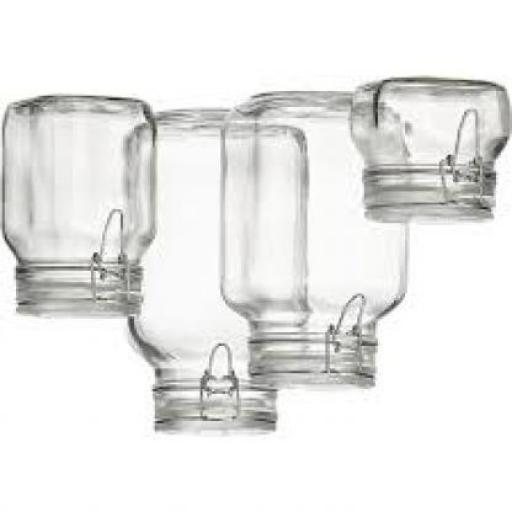glass: (220, 94, 408, 392), (126, 118, 300, 432), (0, 100, 155, 316), (345, 82, 508, 223)
